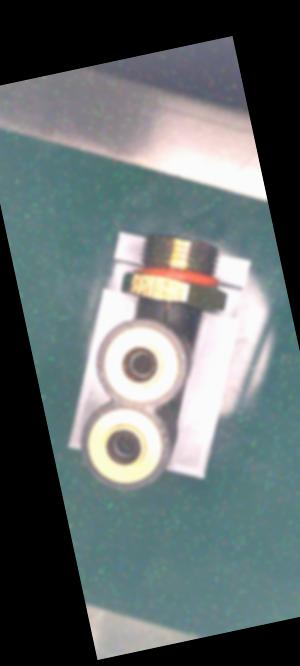craze: (157, 302, 173, 322)
